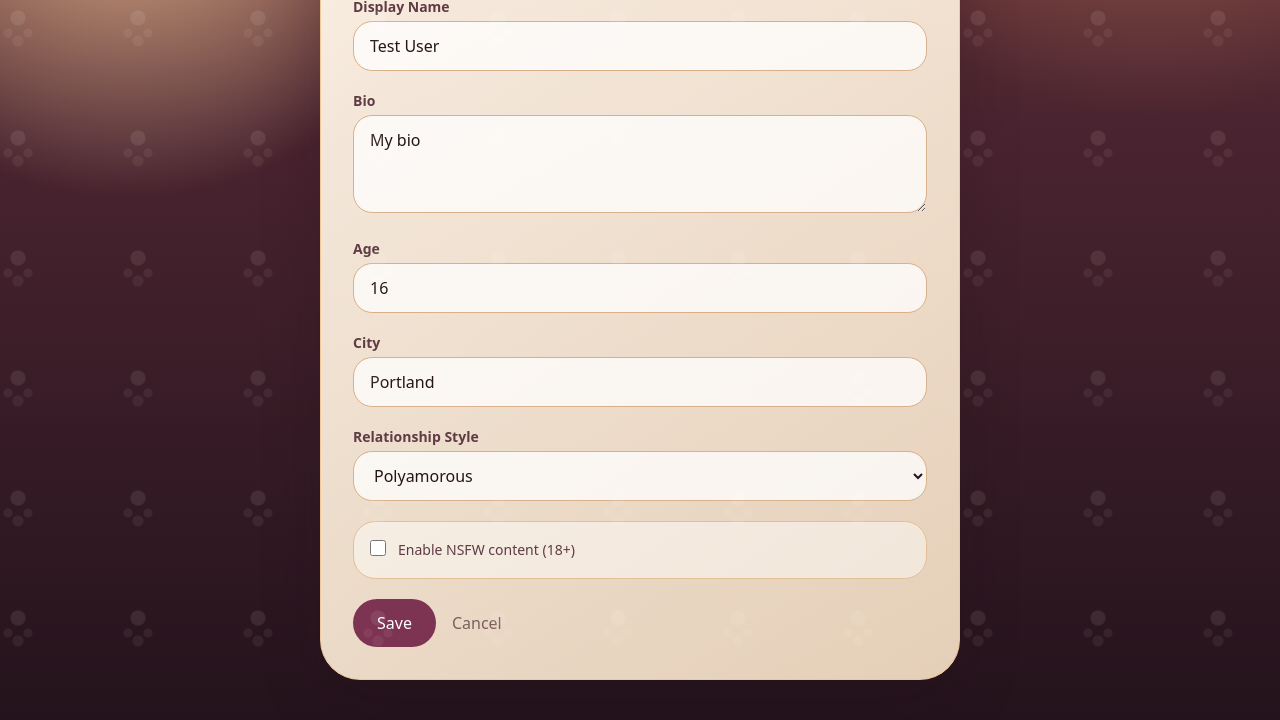
Test case: ProfileEditPage › shows age confirmation modal when enabling NSFW with age under 18
(page scrolled)
Click the checkbox labelled "Enable NSFW content (18+)" at [378, 548], box 370,540 -> 386,556
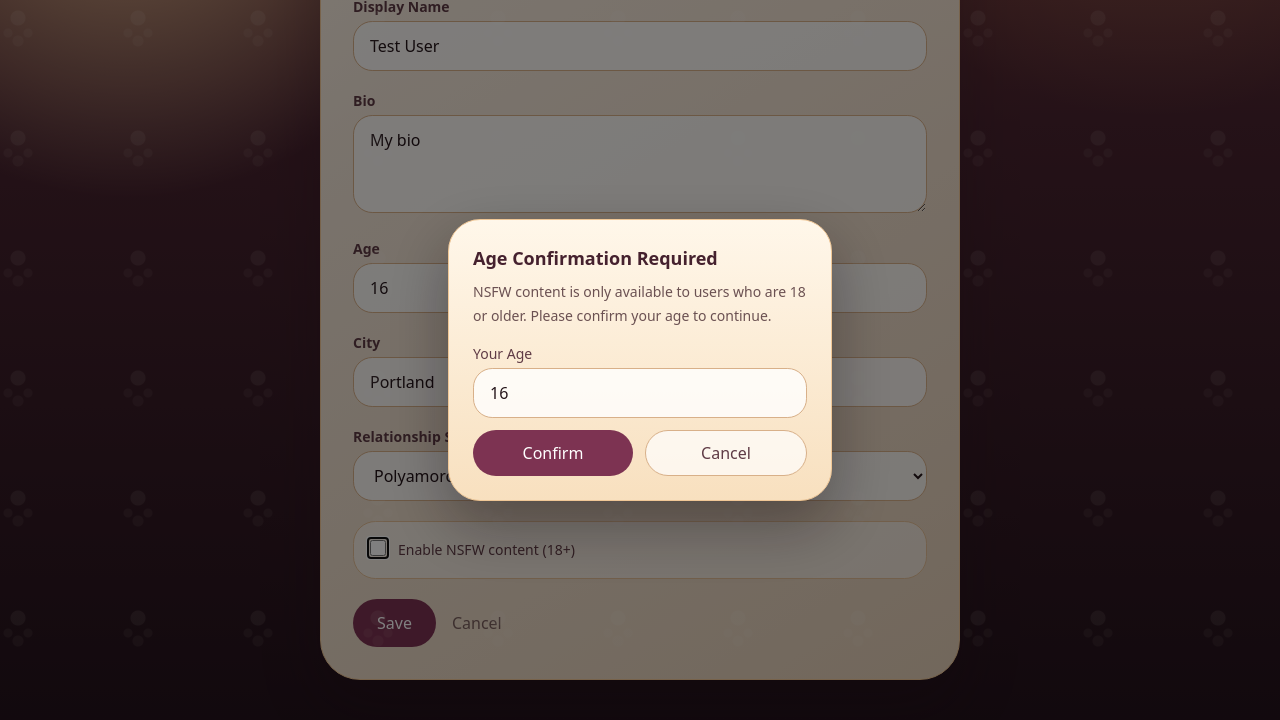
Expected: the dialog is shown
